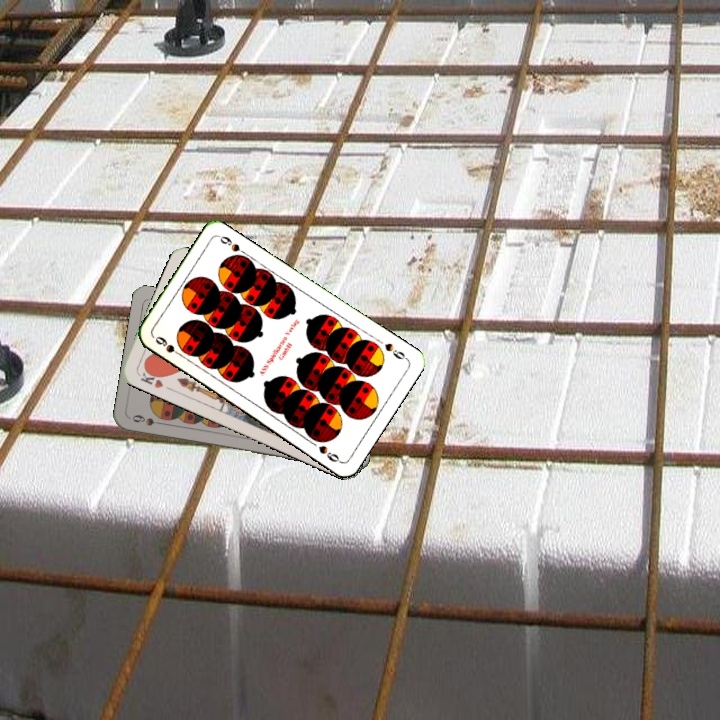HK: (134, 365, 166, 391)
S9: (151, 332, 187, 360), (128, 410, 168, 428), (380, 339, 410, 362)
